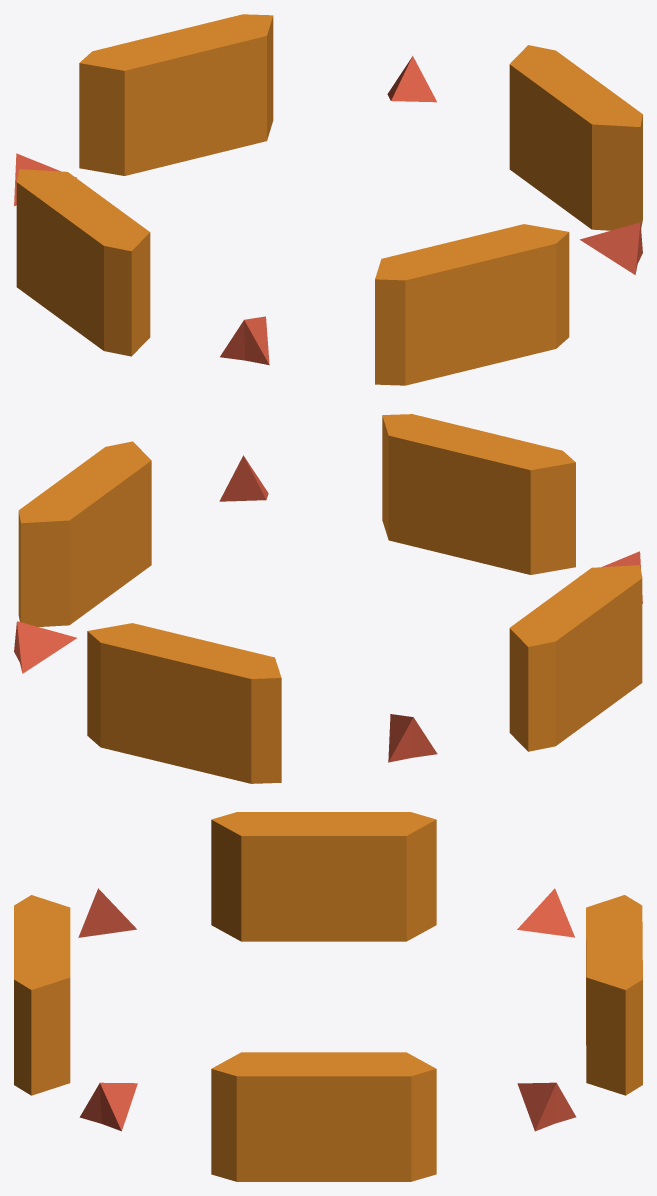
File: DecaTraps.fbx
The picture shows the model from 3 angles, top to bottom: view 1: azimuth 30°, elevation 25°; view 2: azimuth 150°, elevation 25°; view 3: azimuth 270°, elevation 25°; orthographic projection.
Visible parts, largest first — view 1: Cone.002; view 2: Cone.002; view 3: Cone.002.
Part boxes in pixels (x1=…): Cone.002: x1=14, y1=14, x2=642, y2=385; Cone.002: x1=14, y1=414, x2=642, y2=783; Cone.002: x1=14, y1=812, x2=642, y2=1181.
Bounding box in the file's own units: 777 × 145 × 782.
